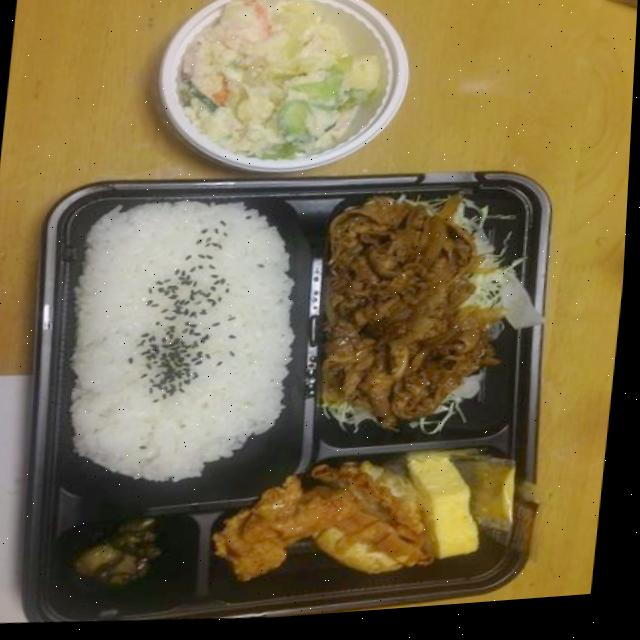米饭主食: (57, 184, 317, 500)
蔬菜料理: (142, 0, 418, 190)
